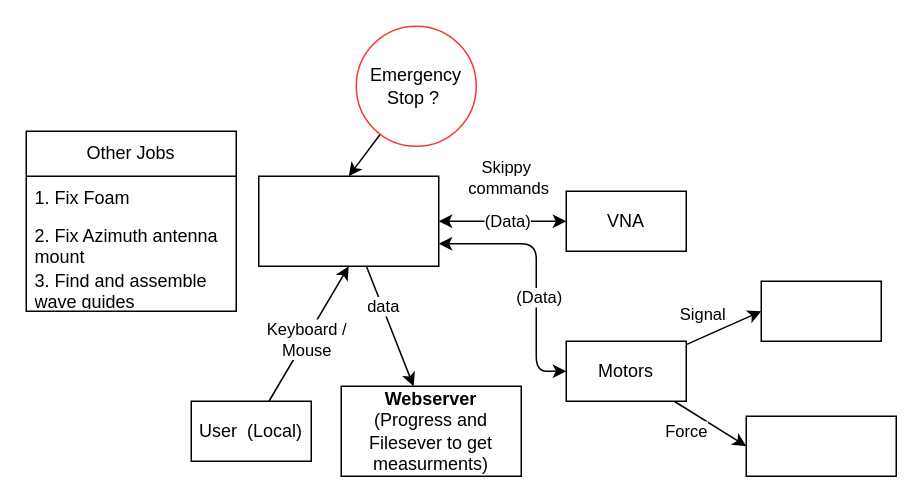
Image size: 923x503. Some labels were removed from this diagram. Each missing label, with the centre of its shape:
Antennas / Wave Guides: point 820,445
Hall Effect sensors: point 820,310
System UI (Local on Laptop): point 348,220
